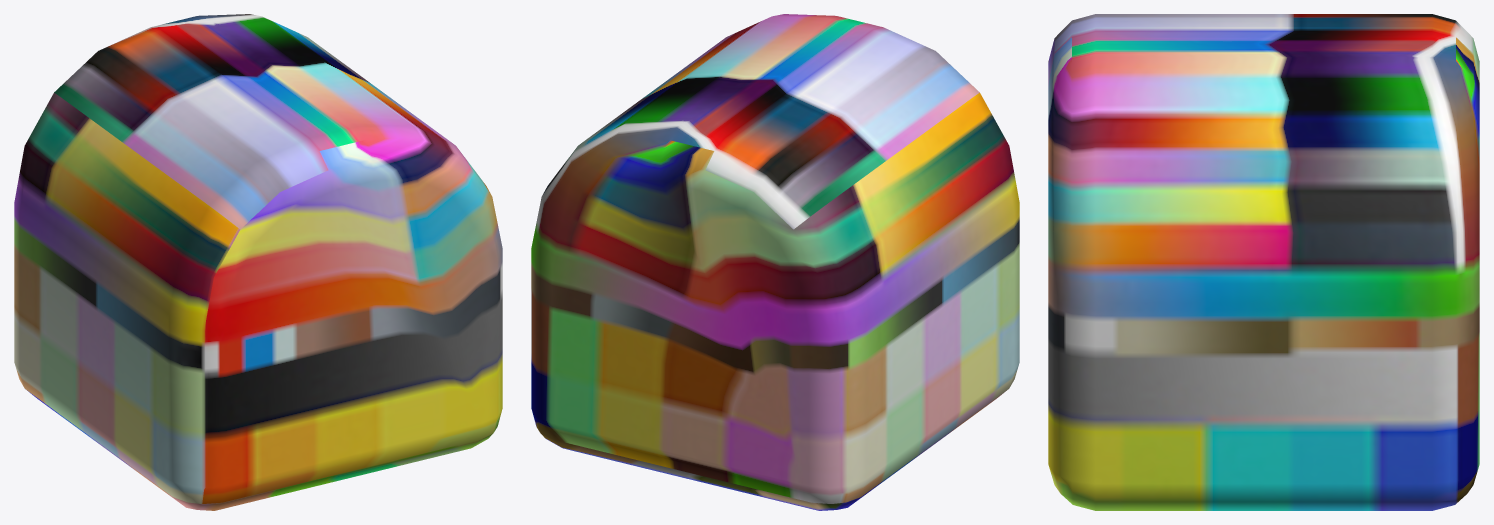
The model's file is HalfCircle.fbx.
3 renders of one model, left to right at view 1: azimuth 30°, elevation 25°; view 2: azimuth 150°, elevation 25°; view 3: azimuth 270°, elevation 25°, orthographic. The views are drawn at different scales.
Parts seen in each view (by area): view 1: Cube.018; view 2: Cube.018; view 3: Cube.018.
Boxes of the visible parts, bbox=[...] form: Cube.018: bbox=[14, 14, 502, 510]; Cube.018: bbox=[531, 14, 1019, 510]; Cube.018: bbox=[1048, 14, 1479, 510].
Size of the model in its own units: 2 by 2 by 2.
